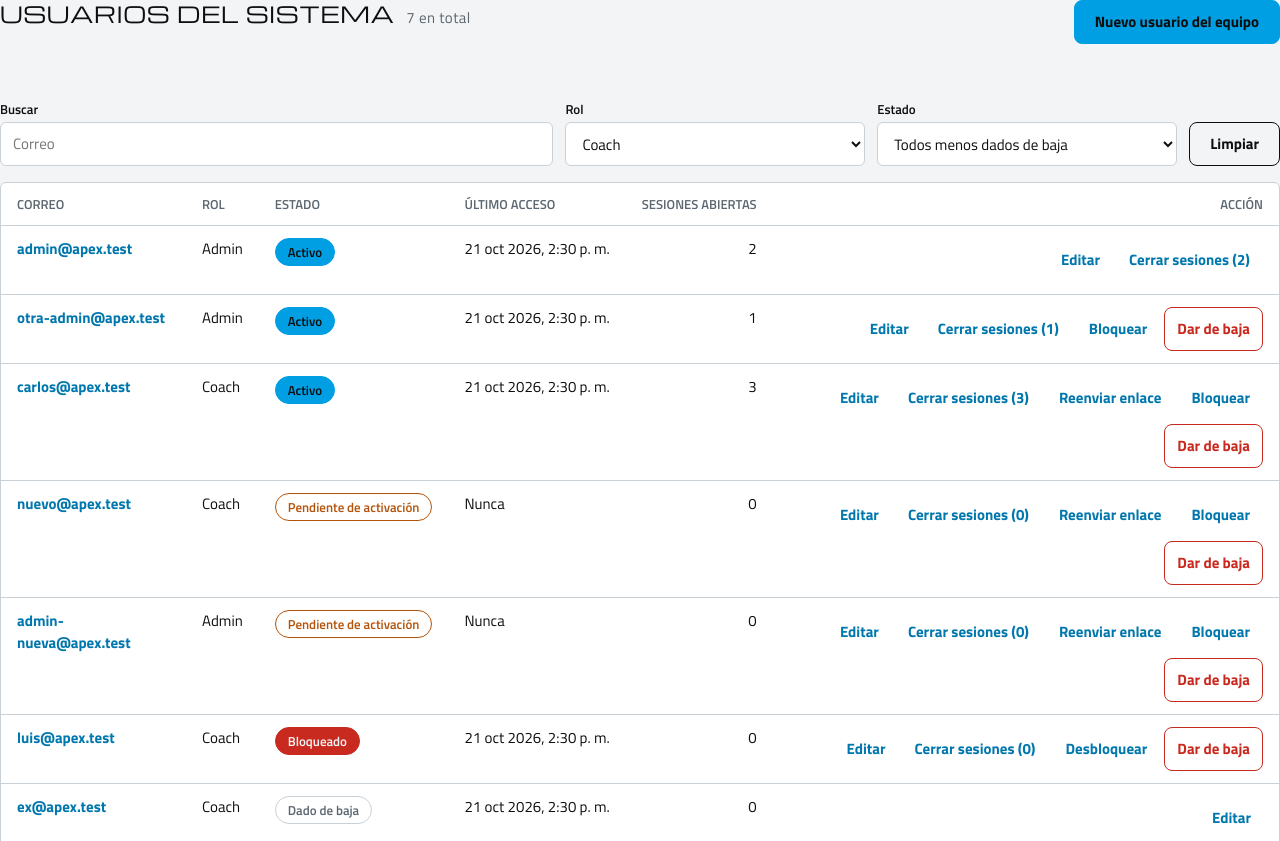
it: EditUserPanel · abrir (US-049) › 'Editar' en la fila abre el panel y conserva los filtros de la URL
Click the link "Editar" in the row of "carlos@apex.test" at (859,398), box [840,386,879,409]
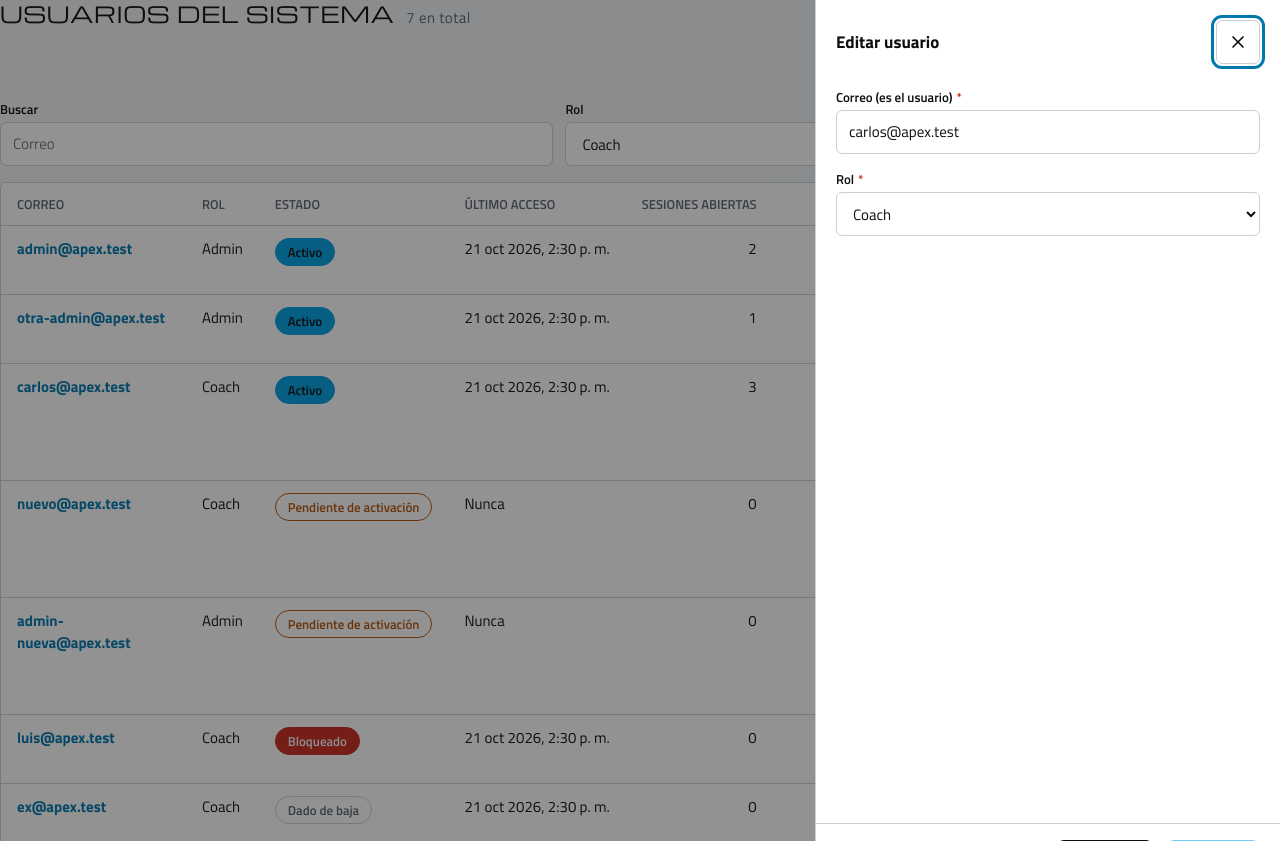
Check: the field showing "carlos@apex.test" is shown, box [836,110,1260,154]
